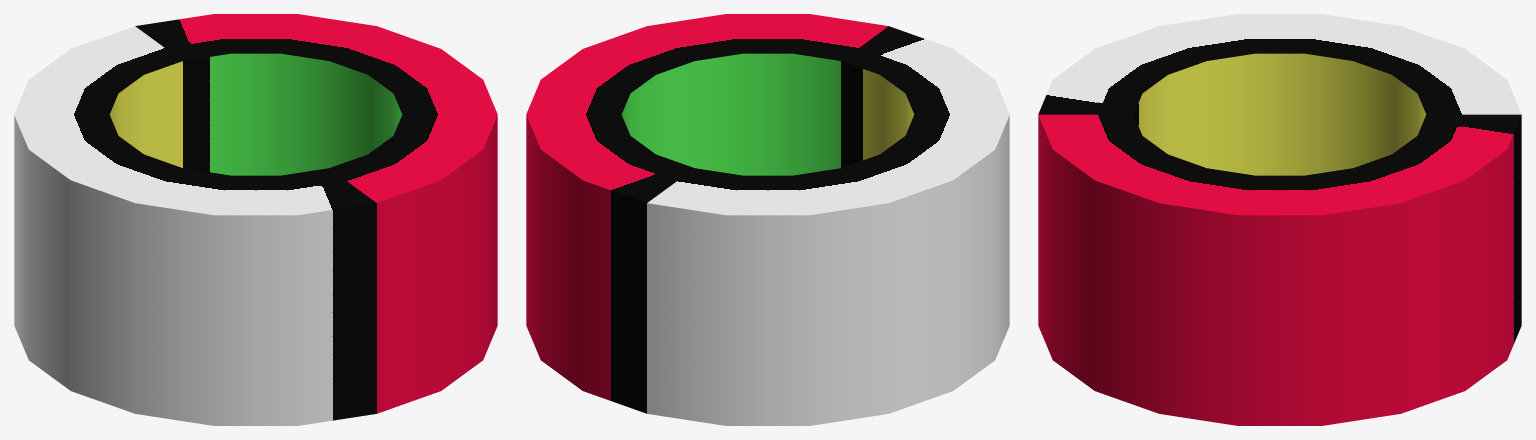
3 views of the same model, side by side, from view 1: azimuth 30°, elevation 25°; view 2: azimuth 150°, elevation 25°; view 3: azimuth 270°, elevation 25° (orthographic).
Parts seen in each view (by area): view 1: Tube001; view 2: Tube001; view 3: Tube001.
Part boxes in pixels (x1,y1,x2,y2): Tube001: (14,14,497,425); Tube001: (526,14,1009,425); Tube001: (1038,14,1521,425).
Size of the model in its own units: 19.29 by 9.42 by 19.59.
